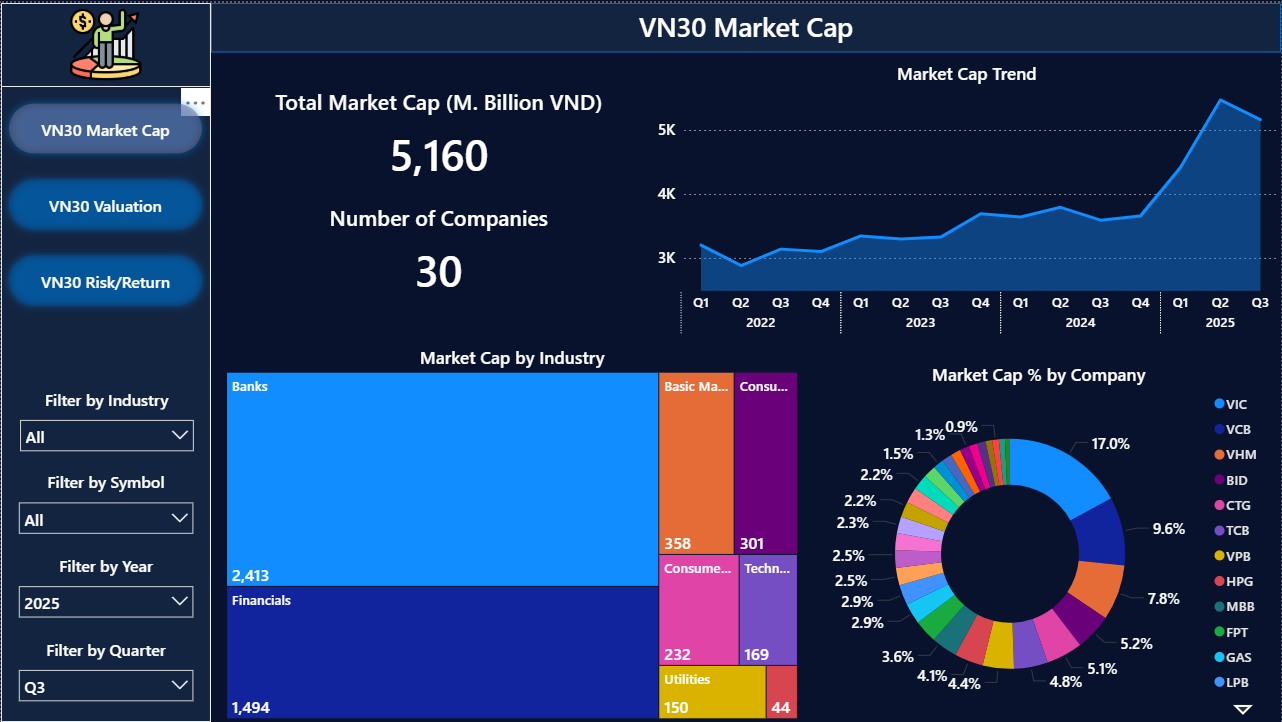

What the dashboard file says about the page in this screenshot:
{"tool":"powerbi","page":{"name":"VN30 Market Cap","canvas":[1280,720],"ordinal":0},"visuals":[{"type":"group","id":"g1","title":"Group 1","box":[0,0,209.9,719],"z":0,"group":"g3"},{"type":"shape","title":"Shape","box":[0,0,209.9,719],"z":0,"group":"g1"},{"type":"shape","title":"Shape","box":[209.9,0,1070.1,49.5],"z":0,"group":"g2"},{"type":"treemap","title":"Market Cap by Industry","fields":{"Group":["dim_company.en_icb_name"],"Values":["fact_quarterly_ratio.Total Market Cap"]},"box":[221.8,342,579.9,378.1],"z":0},{"type":"image","box":[0,0,209.7,83.3],"z":1000,"group":"g3"},{"type":"textbox","box":[209.9,0,1070.1,49.5],"z":1000,"group":"g2"},{"type":"areaChart","title":"Market Cap Trend","fields":{"Y":["fact_quarterly_ratio.Total Market Cap"],"Category":["dim_date.year","dim_date.quarter"]},"box":[650.7,58.8,629.3,283.3],"z":1000},{"type":"slicer","title":"Filter by Quarter","fields":{"Values":["dim_date.quarter"]},"box":[8,634.7,195.1,73.5],"z":1000,"group":"g1"},{"type":"pageNavigator","box":[0,91.9,209.7,218.4],"z":2000,"group":"g3"},{"type":"donutChart","title":"Market Cap % by Company","fields":{"Y":["fact_quarterly_ratio.Total Market Cap"],"Category":["dim_company.symbol"]},"box":[801.7,359.4,473,359.4],"z":2000},{"type":"slicer","title":"Filter by Year","fields":{"Values":["dim_date.year"]},"box":[8,551.4,195.1,73.5],"z":2000,"group":"g1"},{"type":"card","title":"Total Market Cap (M. Billion VND)","fields":{"Values":["fact_quarterly_ratio.Total Market Cap"]},"box":[261.5,83.3,353.4,104.9],"z":3000},{"type":"slicer","title":"Filter by Symbol","fields":{"Values":["dim_company.symbol"]},"box":[8,468.1,195.1,73.5],"z":3000,"group":"g1"},{"type":"card","title":"Number of Companies","fields":{"Values":["dim_company.Number of Companies"]},"box":[287.3,200.4,300.6,104.2],"z":4000},{"type":"slicer","title":"Filter by Industry","fields":{"Values":["dim_company.en_icb_name"]},"box":[8.6,385,193.9,73.3],"z":4000,"group":"g1"},{"type":"group","id":"g2","title":"Group 2","box":[209.9,0,1070.1,49.5],"z":5000},{"type":"group","id":"g3","title":"Group 3","box":[0,0,209.9,719],"z":6000}]}

Visuals, with their boxes on the page's 1280x720 design canvas (x1, y1, x2, y2). These are canvas units, not pixel positions in the 1282x722 screenshot, which may show the page scaled, cropped or inside an application window:
"Group 1" group: rect(0, 0, 210, 719)
"Shape" shape: rect(0, 0, 210, 719)
"Shape" shape: rect(210, 0, 1280, 50)
"Market Cap by Industry" treemap: rect(222, 342, 802, 720)
image: rect(0, 0, 210, 83)
textbox: rect(210, 0, 1280, 50)
"Market Cap Trend" areaChart: rect(651, 59, 1280, 342)
"Filter by Quarter" slicer: rect(8, 635, 203, 708)
pageNavigator: rect(0, 92, 210, 310)
"Market Cap % by Company" donutChart: rect(802, 359, 1275, 719)
"Filter by Year" slicer: rect(8, 551, 203, 625)
"Total Market Cap (M. Billion VND)" card: rect(262, 83, 615, 188)
"Filter by Symbol" slicer: rect(8, 468, 203, 542)
"Number of Companies" card: rect(287, 200, 588, 305)
"Filter by Industry" slicer: rect(9, 385, 202, 458)
"Group 2" group: rect(210, 0, 1280, 50)
"Group 3" group: rect(0, 0, 210, 719)
